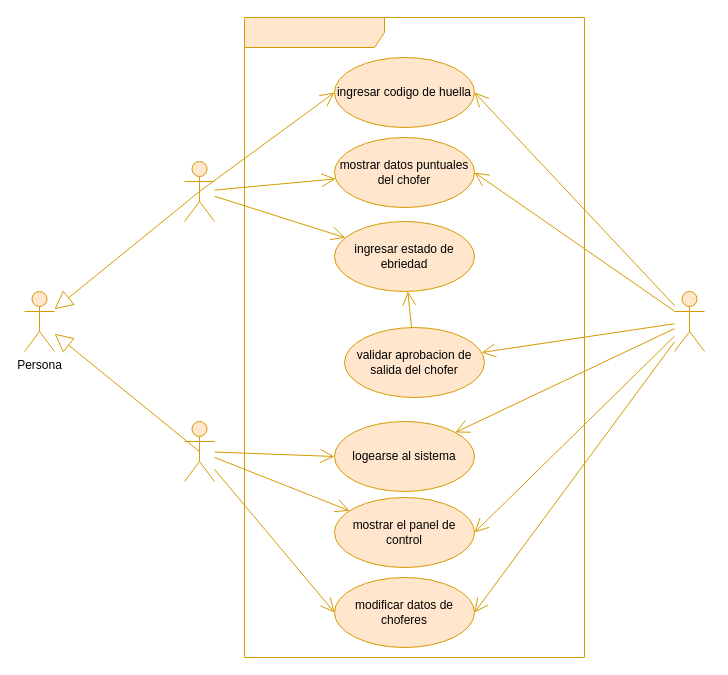
Some shapes in this 728 by 675 pixel diagram are drawn without their labels. Each missing label, with the centre of its shape:
Administrador: the point at 199,451
Chofer: the point at 199,191
DCU: GestionChoferes: the point at 414,337
Sistema: the point at 689,321
